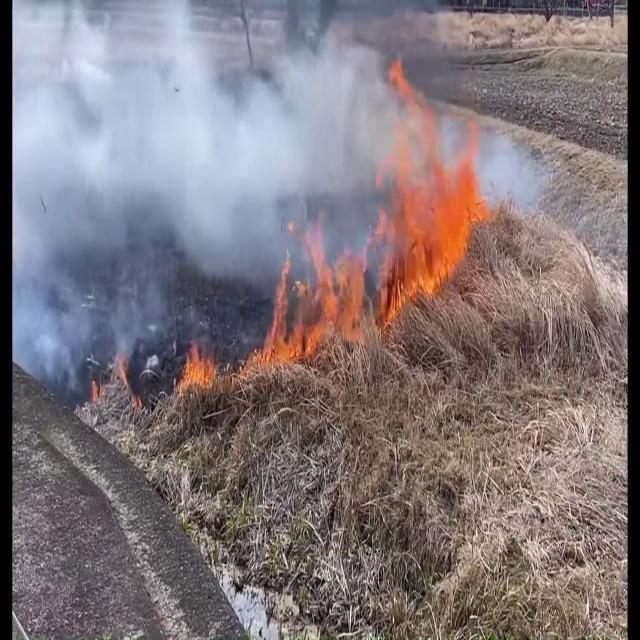Fire: (380, 120, 494, 298), (250, 226, 376, 374)
Smoke: (17, 0, 360, 321)
